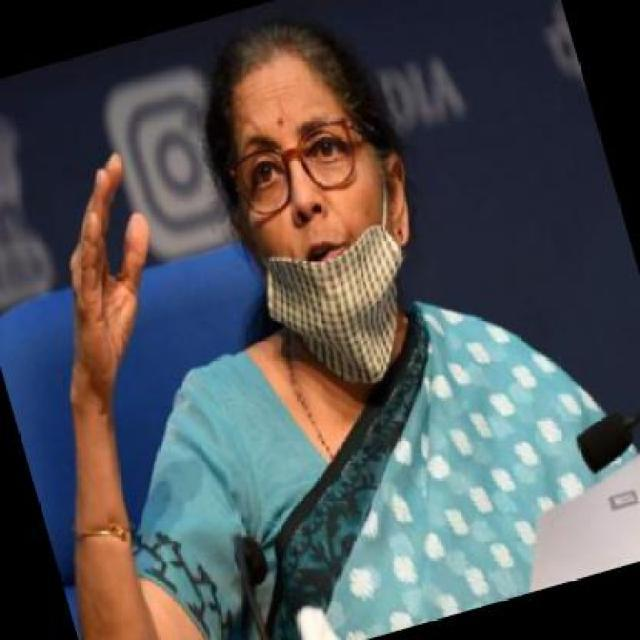hairnet: (250, 176, 410, 398)
